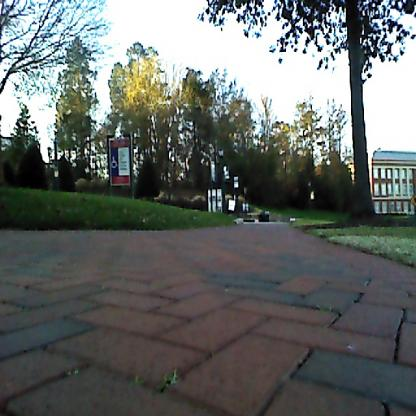Edge: (287, 217, 416, 281), (1, 214, 201, 248)
Sidewalk: (0, 223, 416, 416)
